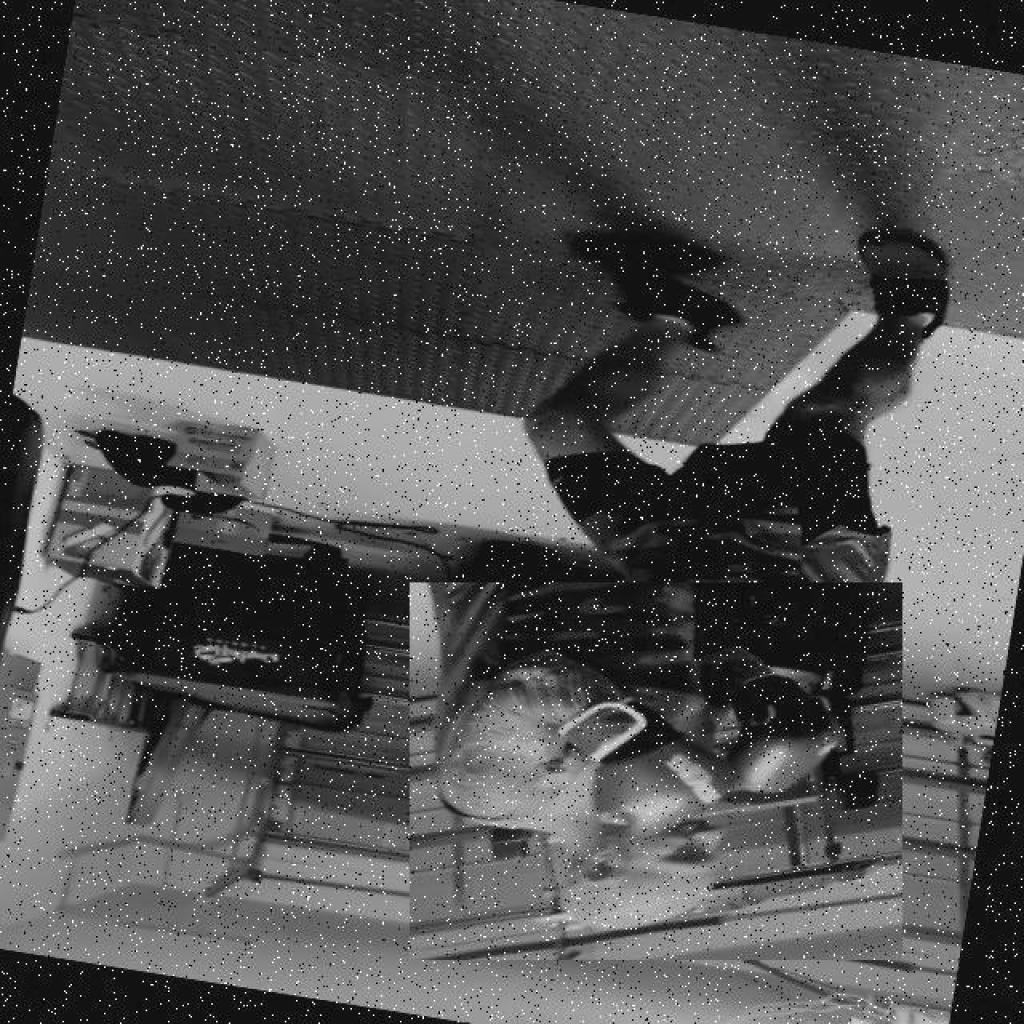no punch: (410, 582, 903, 960)
